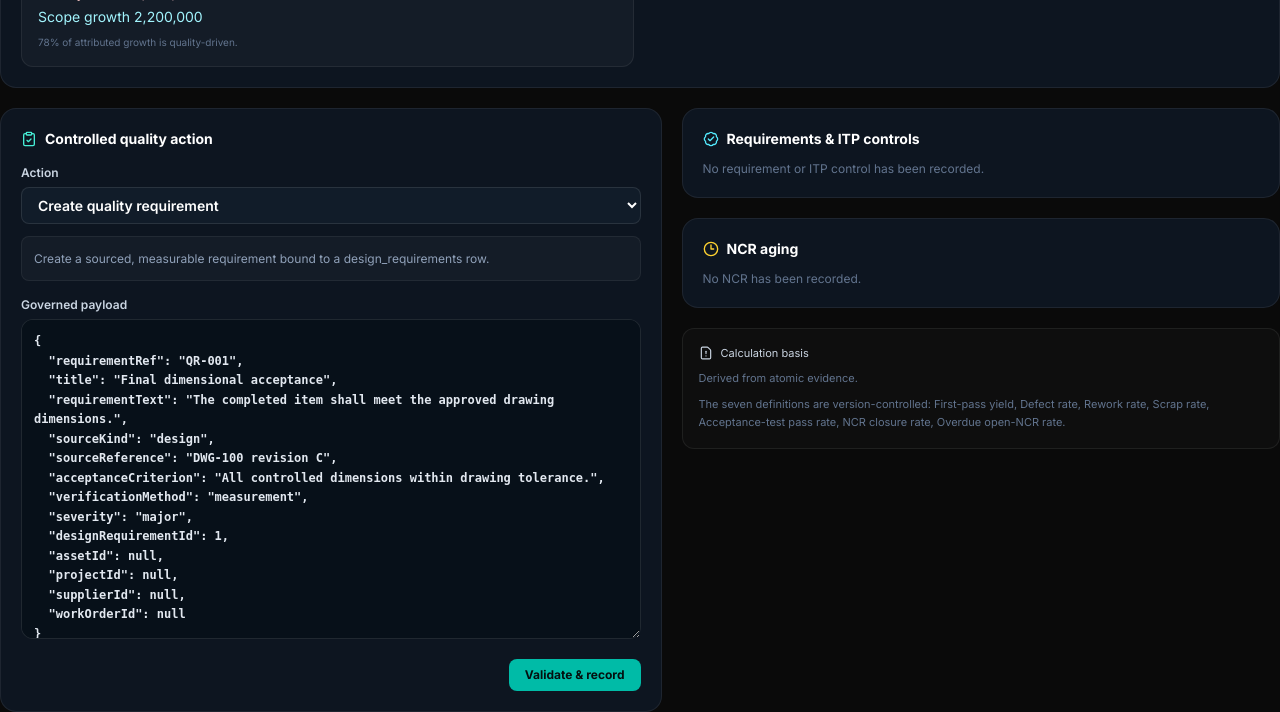
Scenario: QualityManagementWorkbench › retains acknowledgement when the subsequent refresh fails
(page scrolled)
Click the button "Validate & record". click: coordinates (575, 675)
box: [509, 659, 641, 691]
(page scrolled)
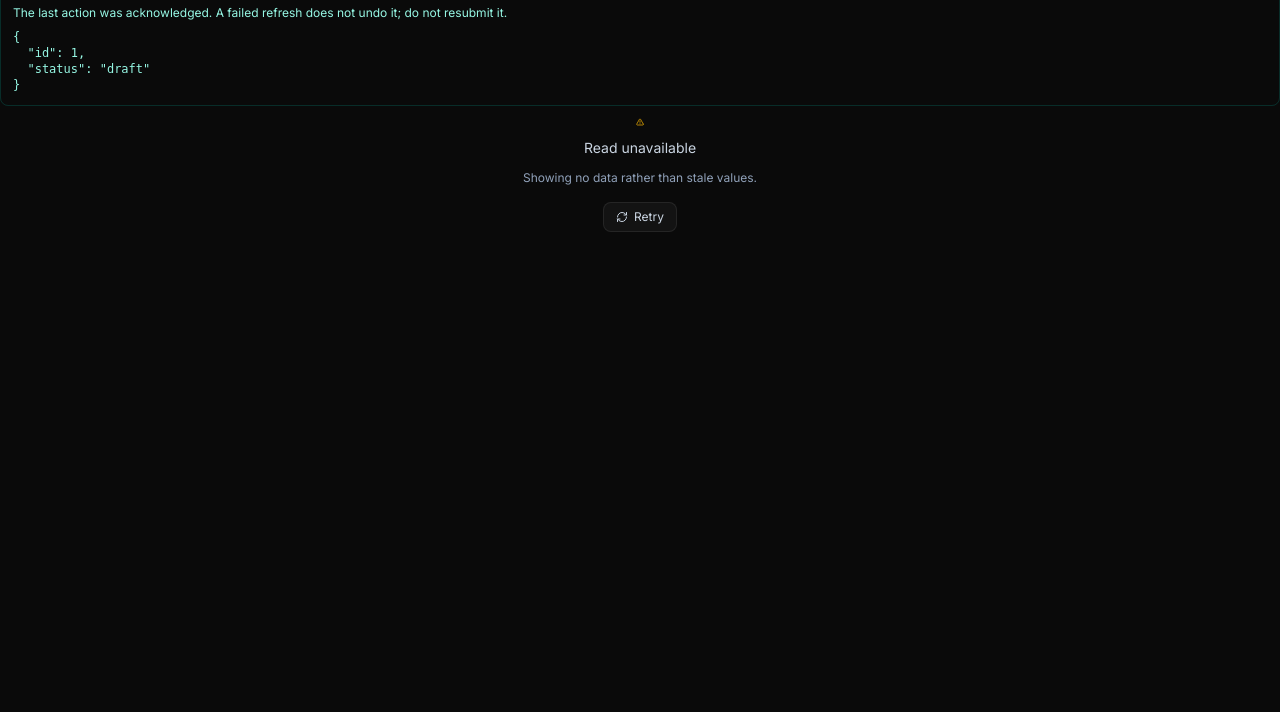
Now the text "Read unavailable" is shown, box [584, 138, 696, 158]
Now the text "The last action was acknowledged" is shown, box [13, 5, 507, 20]
